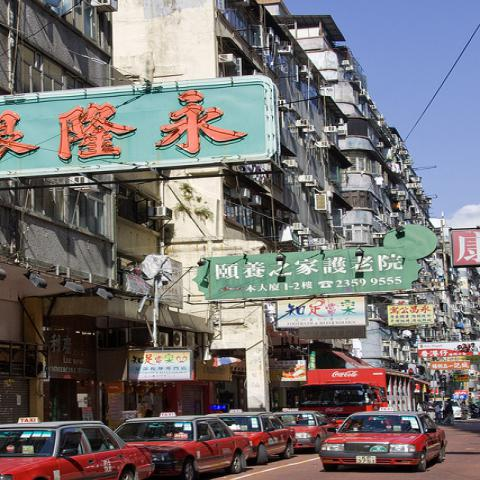car: (0, 417, 159, 480), (316, 412, 450, 472), (120, 420, 254, 479), (212, 410, 300, 465), (273, 410, 338, 453)
truck: (297, 368, 387, 413)
